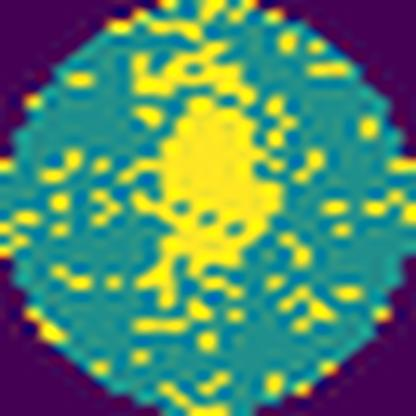Center: (118, 93, 288, 310)
